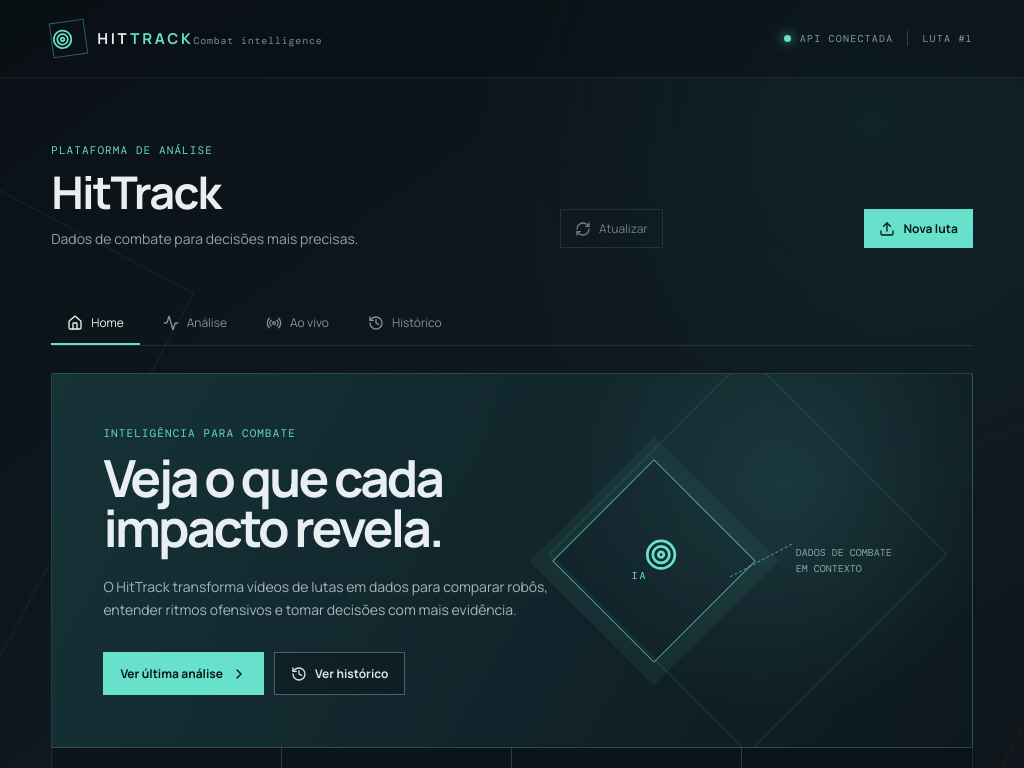
Scenario: HitTrack dashboard › shows an offline notice when analysis cannot be restarted
This screenshot has width=1024, height=768.
Click the button "Análise" at (195, 324), box [147,302,243,345]
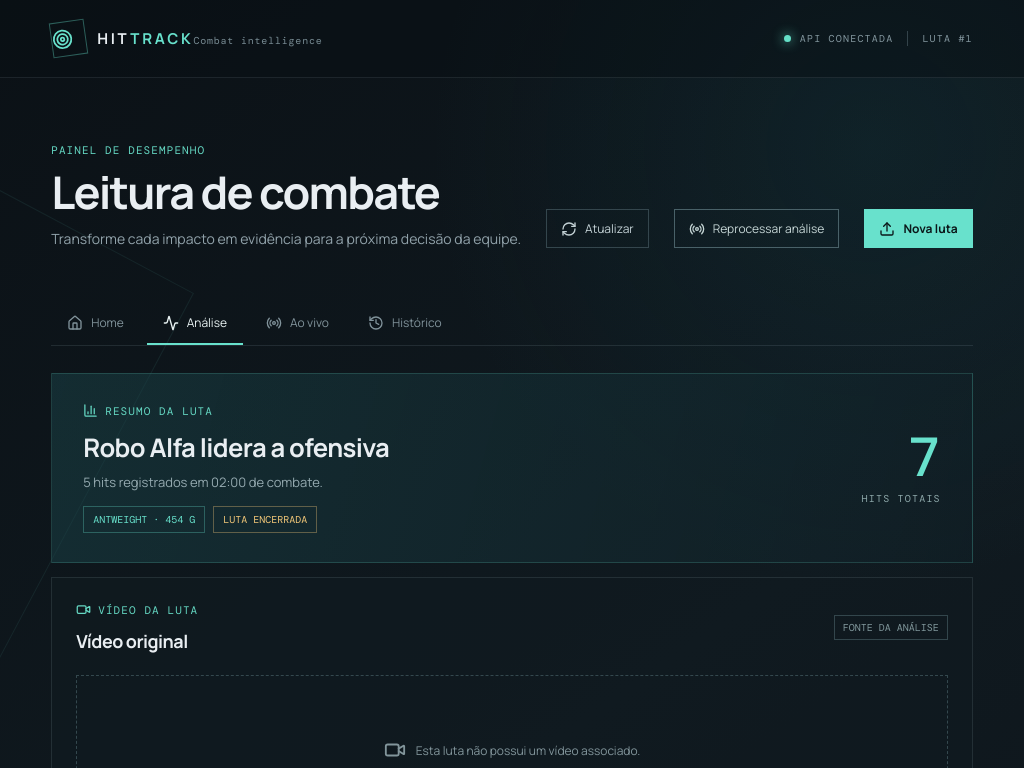
Now the heading "Robo Alfa lidera a ofensiva" is shown, box [83,430,389,465]
Click the button "Reprocessar análise" at (757, 229), box [674,209,839,248]
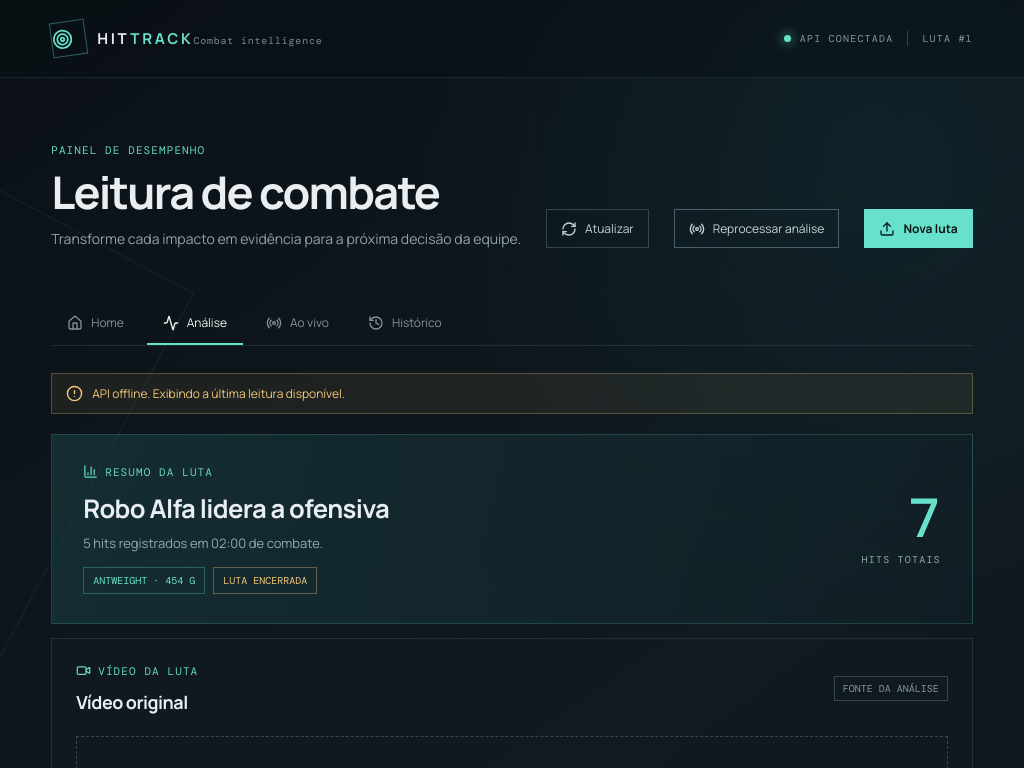
Now the text "API offline. Exibindo a última leitura disponível." is shown, box [51,373,973,414]
